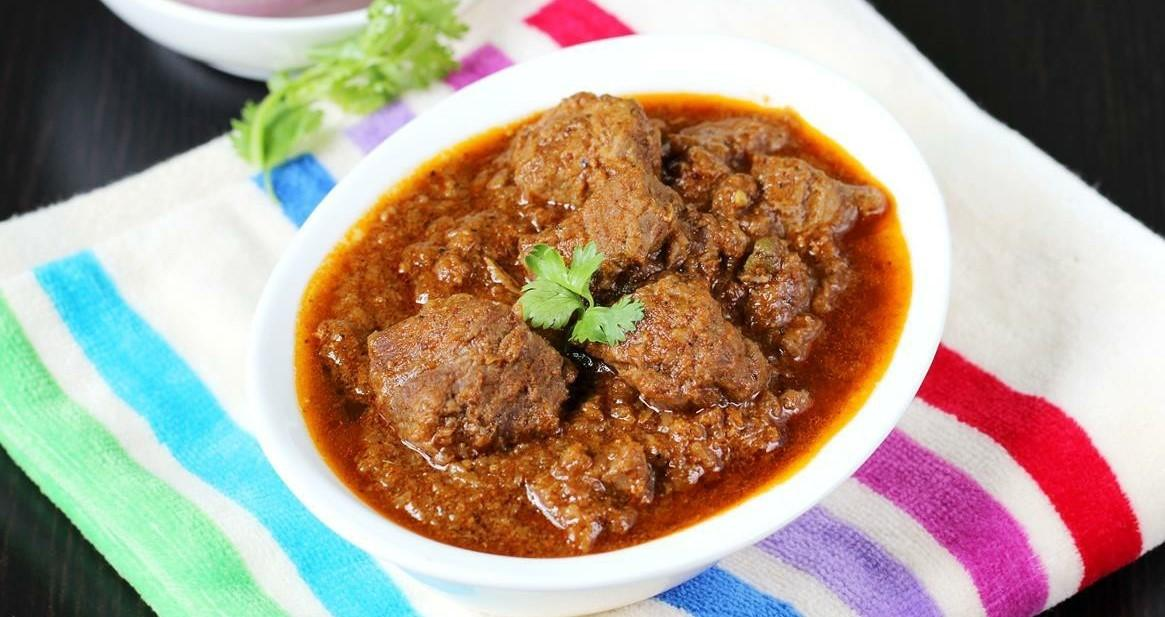MuttonCurry: (305, 90, 895, 553)
